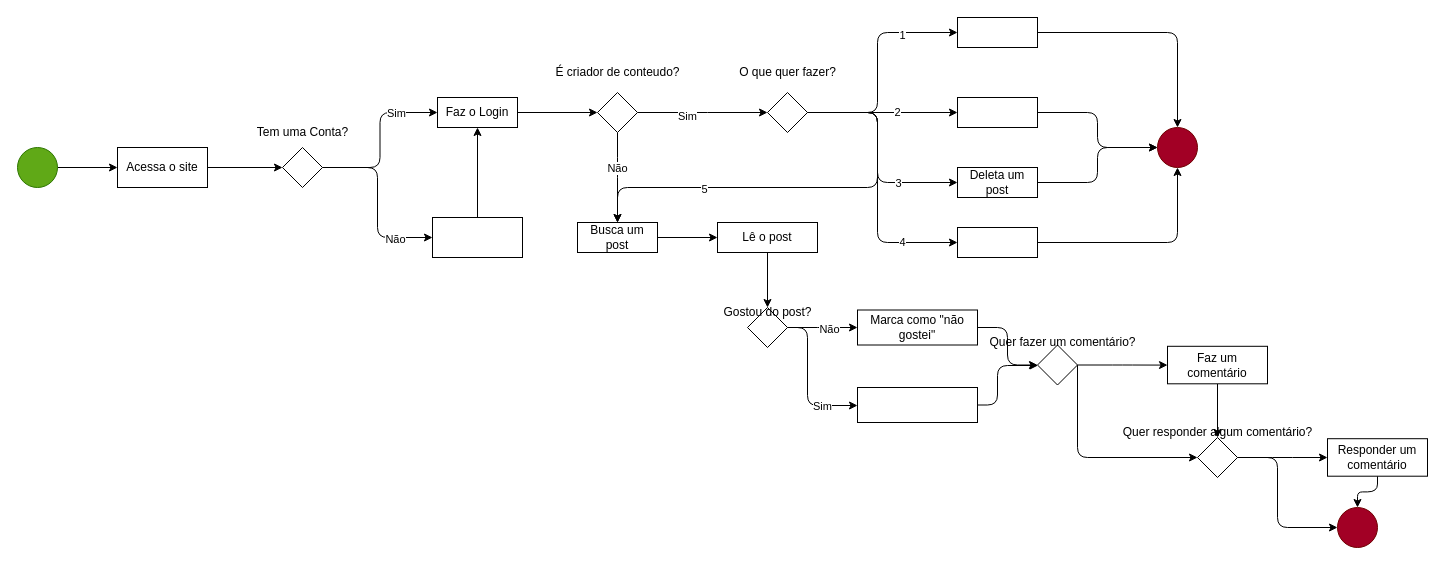
This 1445x565 diagram has some shape labels left out. Each missing label, with the box of its shape:
Cria um anúncio: (956, 226, 1038, 258)
Cria um novo post: (956, 16, 1038, 48)
Edita um post: (956, 96, 1038, 128)
Faz o Cadastro: (432, 216, 522, 258)
Marca como "gostei": (856, 386, 978, 422)
